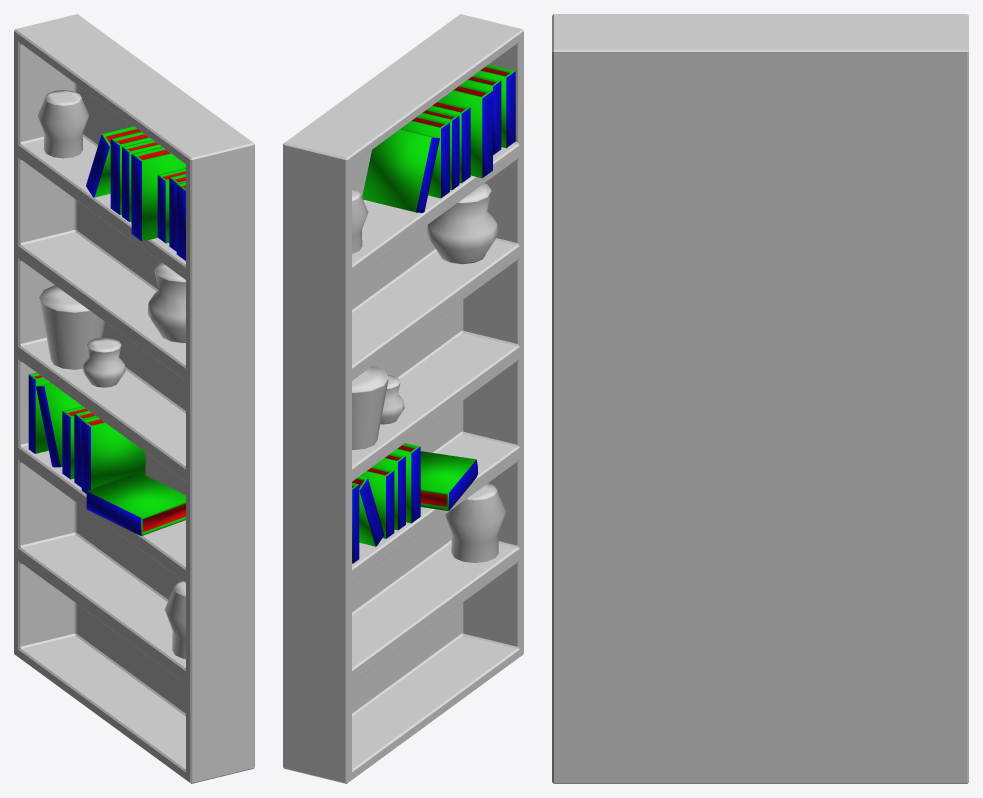
Rendered from shkaf.fbx.
3 views of the same model, side by side, from view 1: azimuth 30°, elevation 25°; view 2: azimuth 150°, elevation 25°; view 3: azimuth 270°, elevation 25° (orthographic). The views are drawn at different scales.
Parts seen in each view (by area): view 1: Cube.021, Cube.026, Cylinder, Cube.027, Cube.036, Cylinder.015, Cylinder.013, Cube.023, Cylinder.012, Cube.040, Cube.022, Cube.039 (+7 smaller); view 2: Cube.021, Cube.040, Cylinder.013, Cylinder.014, Cube.026, Cube.036, Cylinder, Cube.039, Cube.024, Cube.028, Cube.023, Cube.027 (+7 smaller); view 3: Cube.021.
Part boxes in pixels (bbox=[...]): Cube.021: bbox=[14, 14, 254, 783]; Cube.026: bbox=[86, 472, 185, 535]; Cylinder: bbox=[39, 285, 104, 369]; Cube.027: bbox=[81, 416, 145, 493]; Cube.036: bbox=[131, 146, 185, 241]; Cylinder.015: bbox=[37, 90, 89, 158]; Cylinder.013: bbox=[147, 262, 185, 342]; Cube.023: bbox=[36, 383, 82, 467]; Cylinder.012: bbox=[83, 337, 125, 387]; Cube.040: bbox=[86, 126, 140, 197]; Cube.022: bbox=[28, 372, 50, 453]; Cube.039: bbox=[110, 131, 151, 215]; Cube.021: bbox=[283, 14, 523, 783]; Cube.040: bbox=[362, 128, 439, 212]; Cylinder.013: bbox=[427, 183, 497, 264]; Cylinder.014: bbox=[445, 483, 505, 562]; Cube.026: bbox=[420, 451, 477, 510]; Cube.036: bbox=[440, 83, 492, 178]; Cylinder: bbox=[352, 365, 388, 450]; Cube.039: bbox=[401, 115, 449, 198]; Cube.024: bbox=[360, 466, 394, 538]; Cube.028: bbox=[475, 64, 515, 148]; Cube.023: bbox=[352, 476, 384, 546]; Cube.027: bbox=[392, 443, 420, 523]; Cube.021: bbox=[552, 14, 968, 783].
Bounding box in the file's own units: 114 × 843 × 434.
